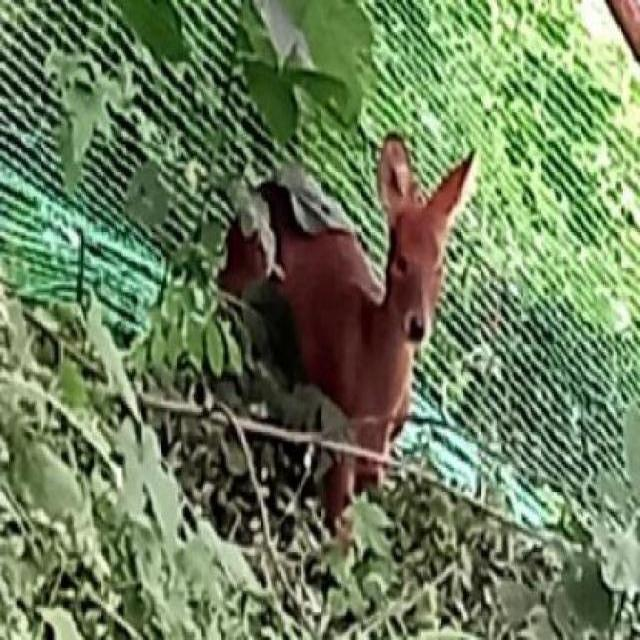deer: (228, 130, 480, 513)
